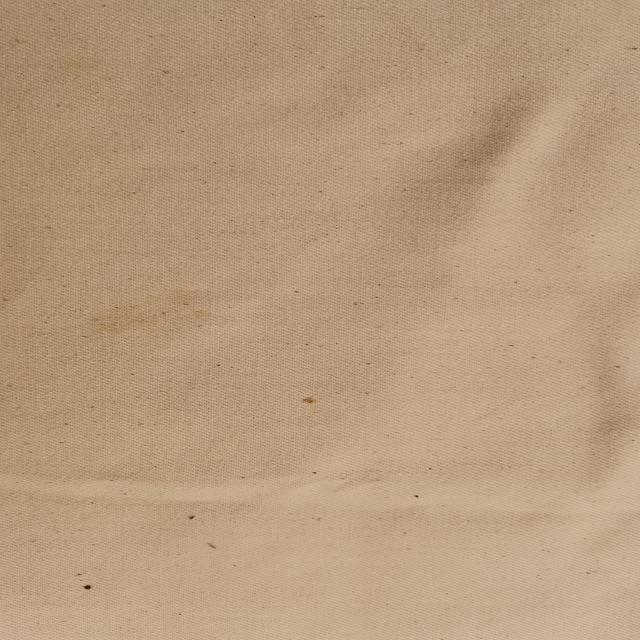taaaches: (302, 393, 320, 409), (76, 581, 100, 593)
